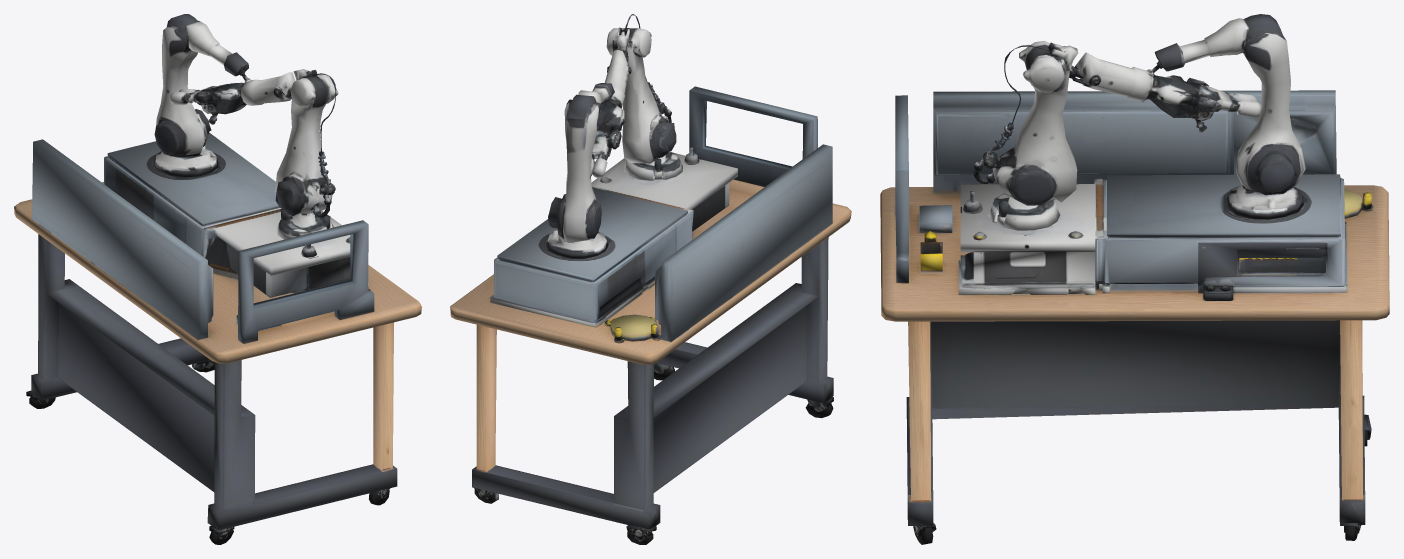
3 views of the same model, side by side, from view 1: azimuth 30°, elevation 25°; view 2: azimuth 150°, elevation 25°; view 3: azimuth 270°, elevation 25° (orthographic). The views are drawn at different scales.
Visible parts, largest first — view 1: tripo_node_d1b268da; view 2: tripo_node_d1b268da; view 3: tripo_node_d1b268da.
Boxes of the visible parts, x1,y1,x2,y2 form: tripo_node_d1b268da: [14, 14, 421, 544]; tripo_node_d1b268da: [450, 14, 851, 544]; tripo_node_d1b268da: [880, 14, 1389, 544].
Size of the model in its own units: 0.5449 by 0.998 by 0.9395.
1 material, 1 textured.
